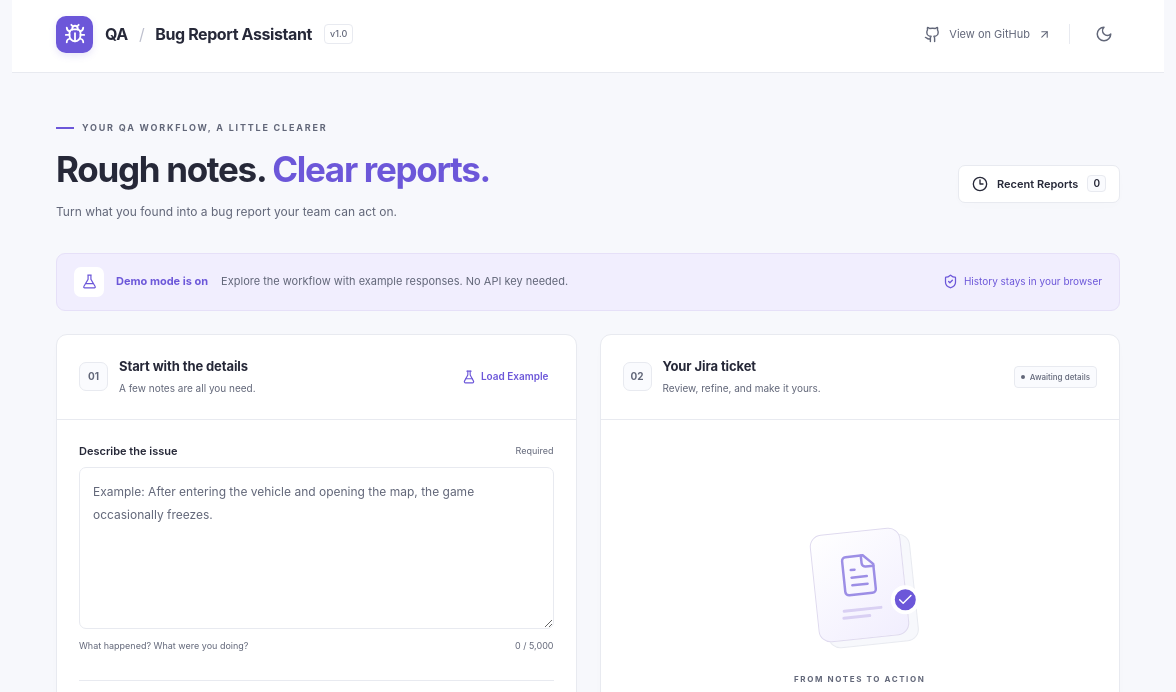
report workflow › handles unavailable browser storage
Click the button "Load Example": (505,377) [457, 364, 554, 389]
(page scrolled)
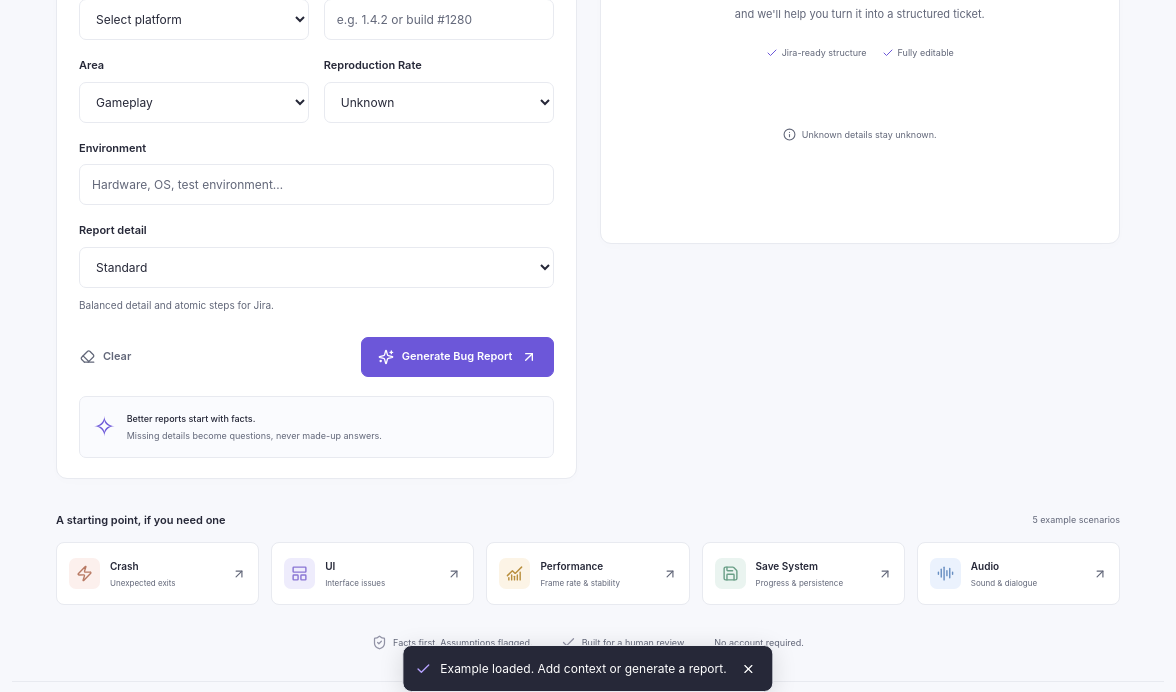
Click the button "Generate Bug Report": (457,357) [361, 337, 554, 377]
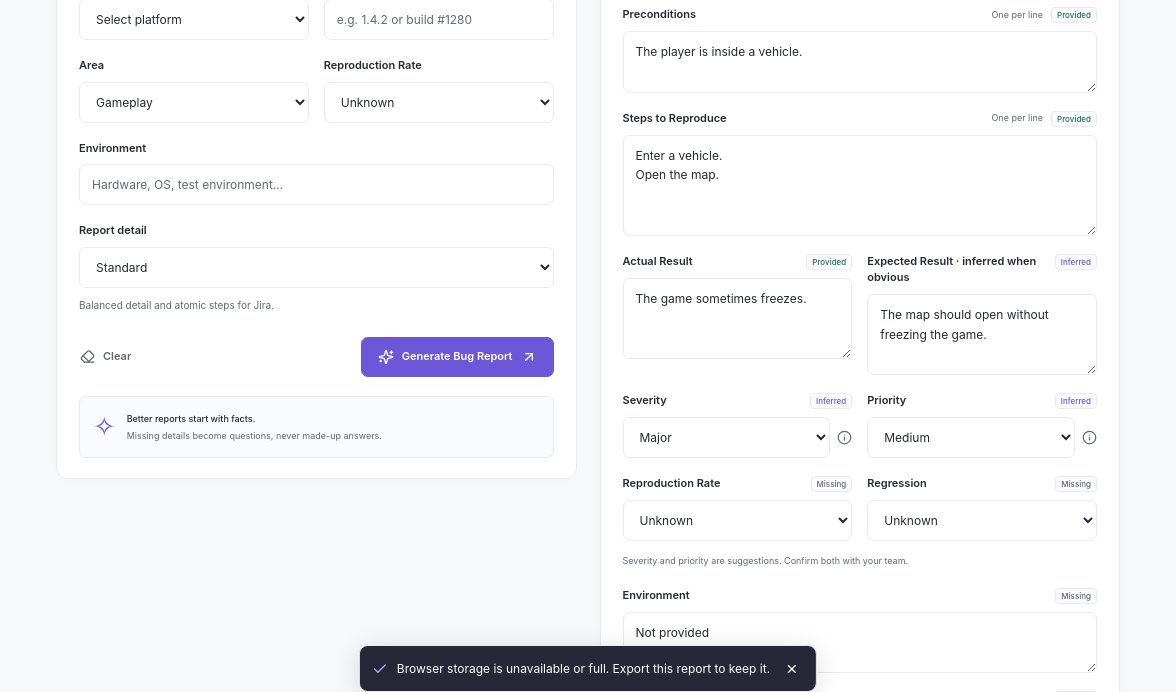
Check: the text "Browser storage is unavailable or full" is shown, box [397, 660, 770, 676]
